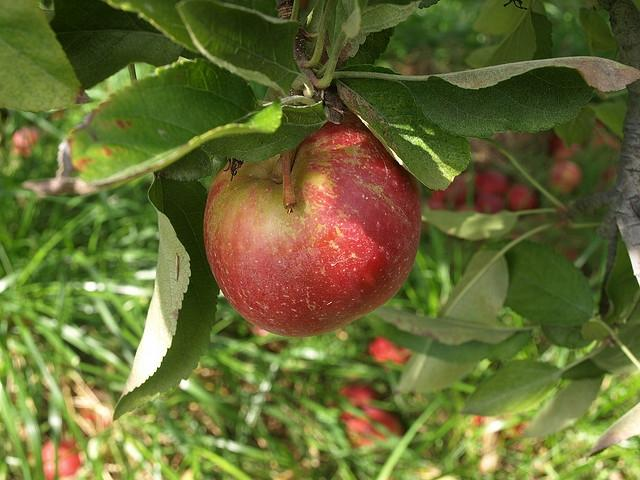apple: (204, 110, 422, 338), (326, 384, 405, 448), (550, 118, 622, 159), (41, 439, 81, 479), (428, 173, 467, 211), (546, 160, 584, 194), (474, 169, 510, 198), (504, 184, 540, 211), (10, 126, 40, 157), (368, 336, 399, 362), (477, 192, 505, 214), (75, 407, 96, 431), (474, 416, 486, 426)
